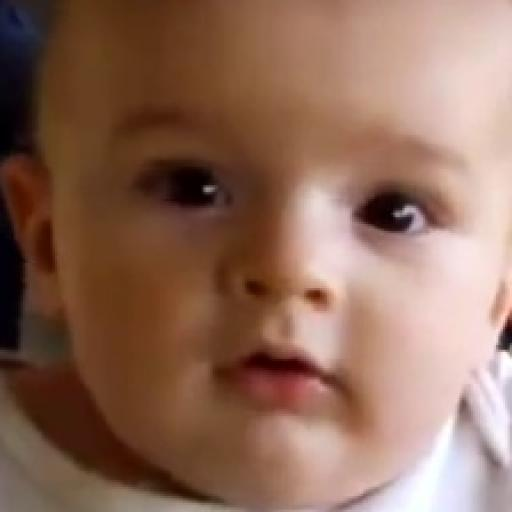Autism: (57, 0, 512, 512)
